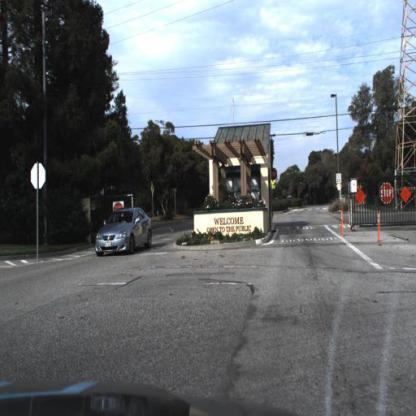car: (93, 201, 152, 256)
